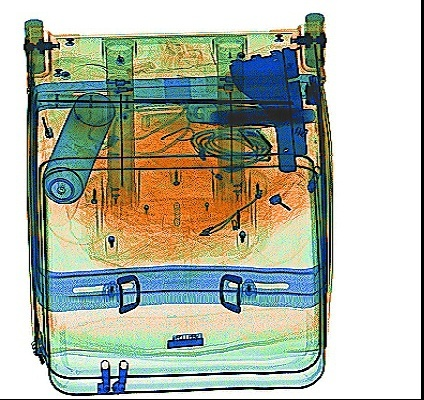lighter: (32, 98, 55, 139)
powerbank: (205, 106, 318, 127)
pressure: (29, 90, 116, 229)
